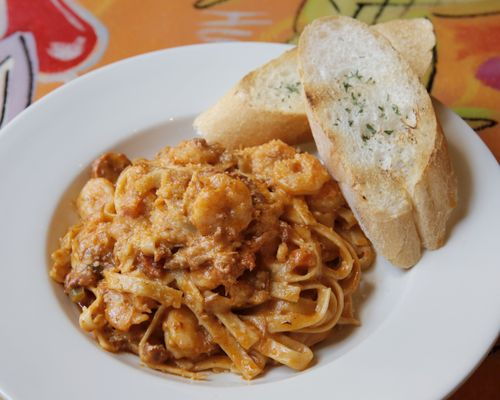soup: (297, 15, 460, 272)
